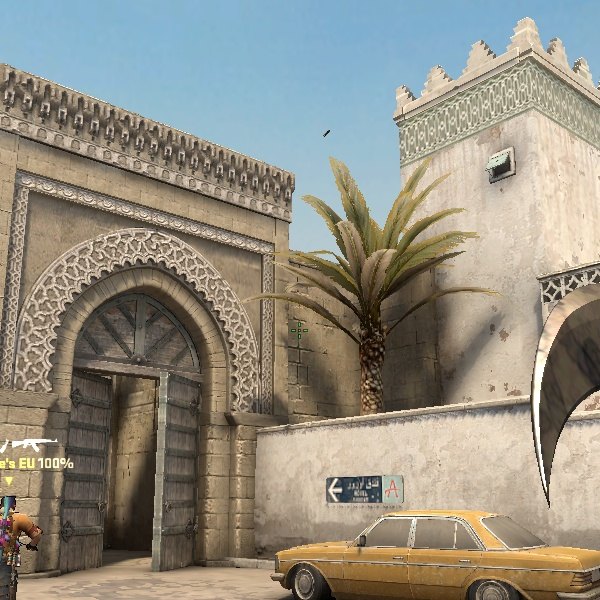t_body: (0, 491, 48, 600)
